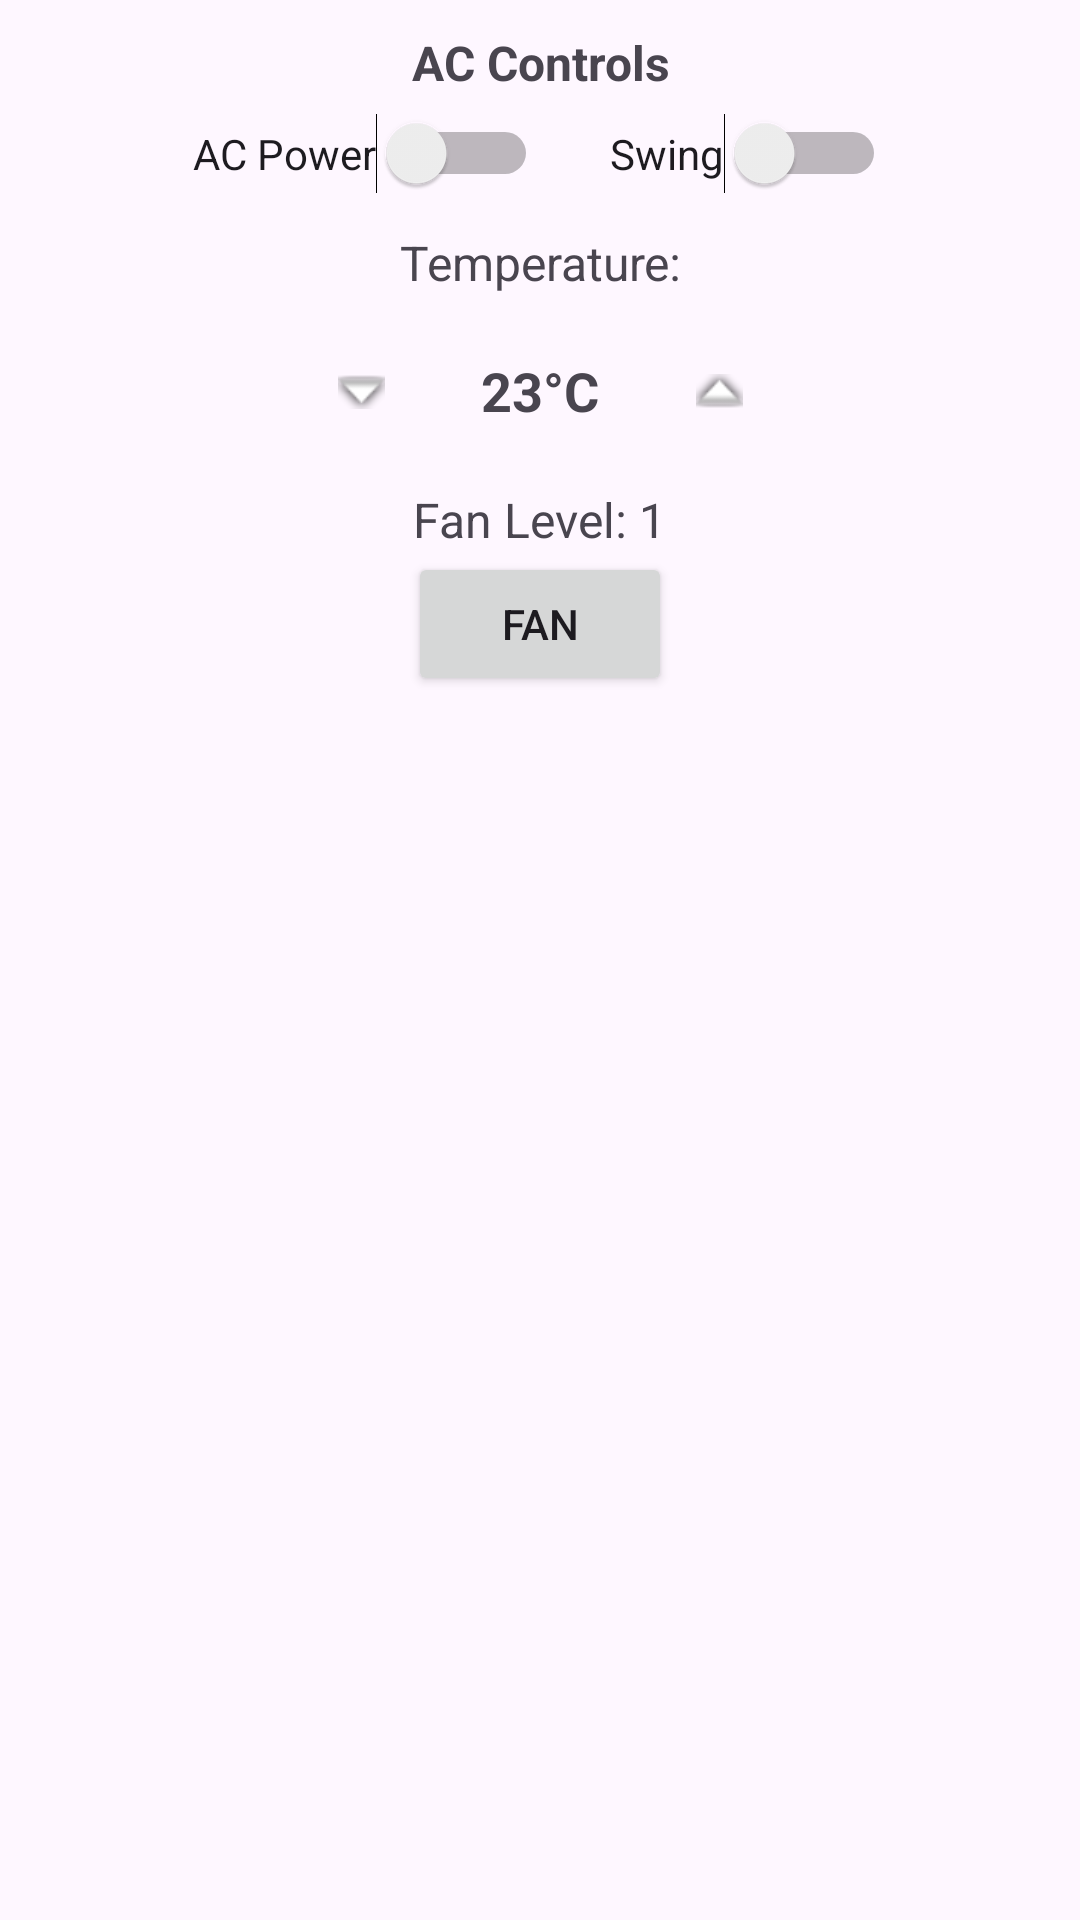

Icons on this 1080w x 1920h Android screen, each with the point to tap as point (x, y):
arrow down float: point (361, 392)
arrow up float: point (719, 391)
